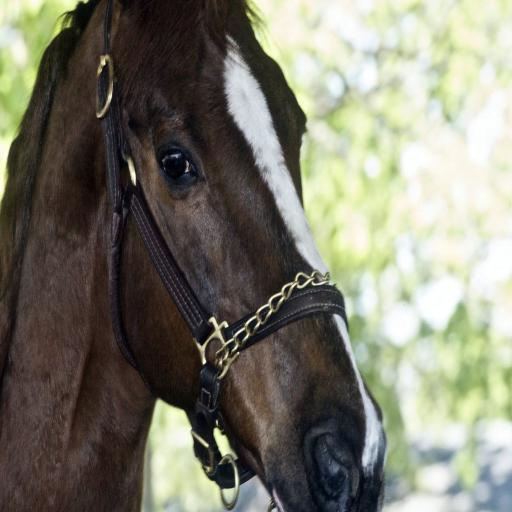horse: (0, 0, 389, 512)
